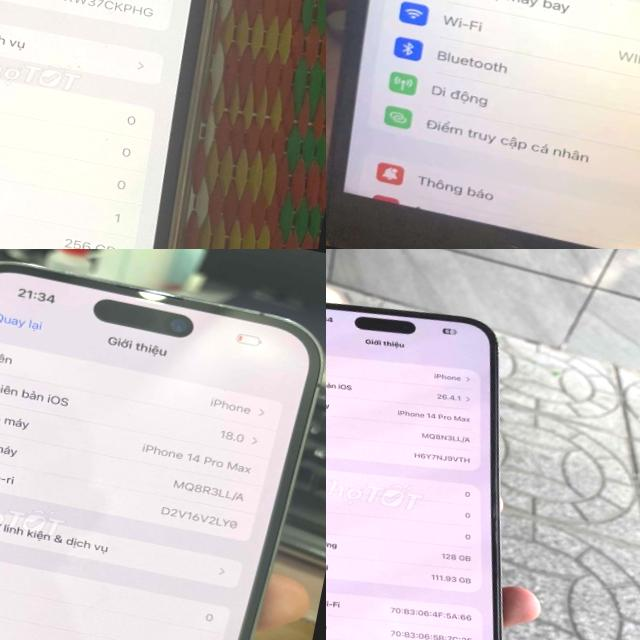gen_14: (0, 249, 326, 640), (326, 278, 580, 640)
gen_7_8: (326, 0, 640, 249)
gen_x_xs: (0, 0, 260, 249)
scratch: (43, 258, 265, 320)
